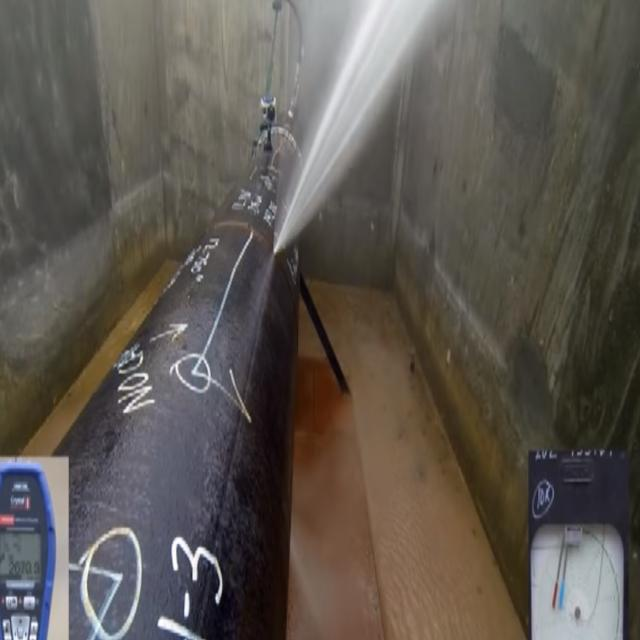leak: (274, 0, 430, 252)
